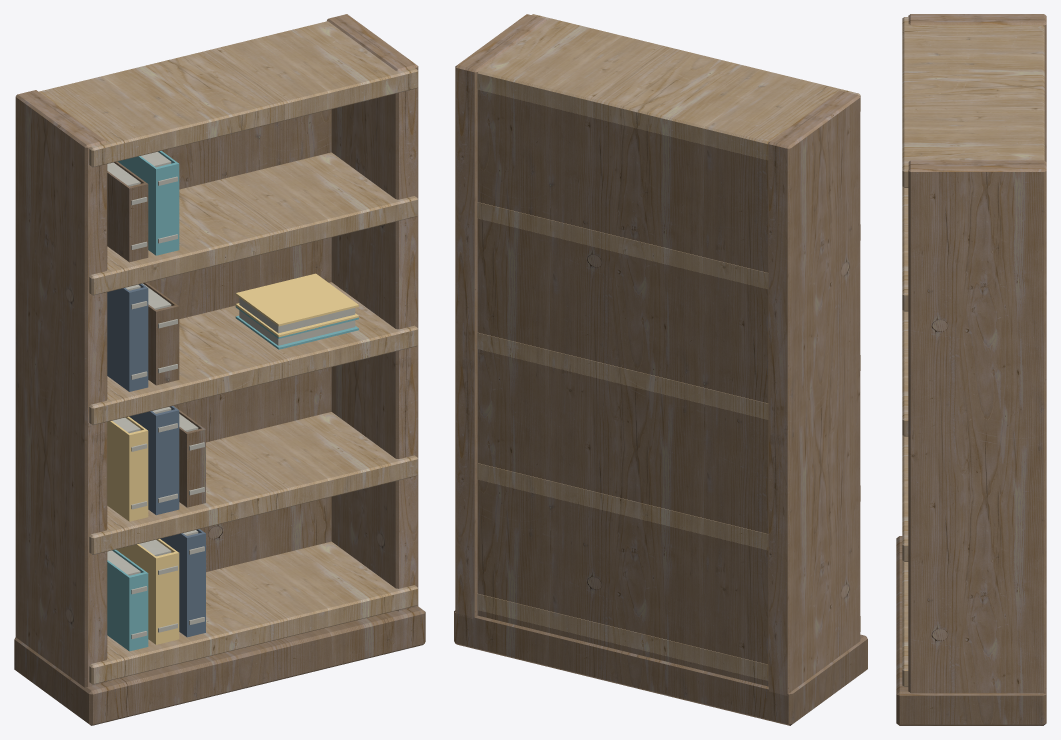
File: build_shelf.glb
The picture shows the model from 3 angles, left to right: view 1: azimuth 30°, elevation 25°; view 2: azimuth 150°, elevation 25°; view 3: azimuth 270°, elevation 25°; orthographic projection. The views are drawn at different scales.
Parts seen in each view (by area): view 1: build_shelf; view 2: build_shelf; view 3: build_shelf.
Boxes of the visible parts, x1,y1,x2,y2 form: build_shelf: (14, 14, 425, 725); build_shelf: (454, 14, 867, 725); build_shelf: (896, 14, 1046, 725).
Size of the model in its own units: 1.1 by 1.8 by 0.44.
Materials: 7 (4 with a texture image).
